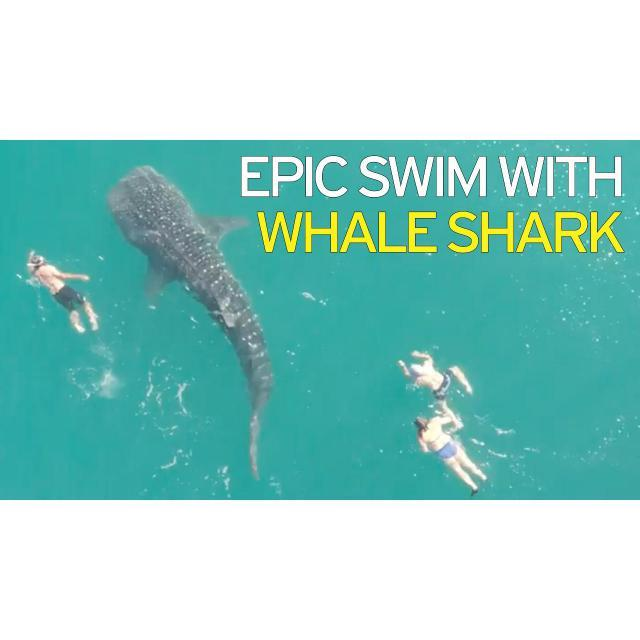human: (27, 250, 101, 334), (414, 417, 489, 496), (399, 351, 473, 428)
